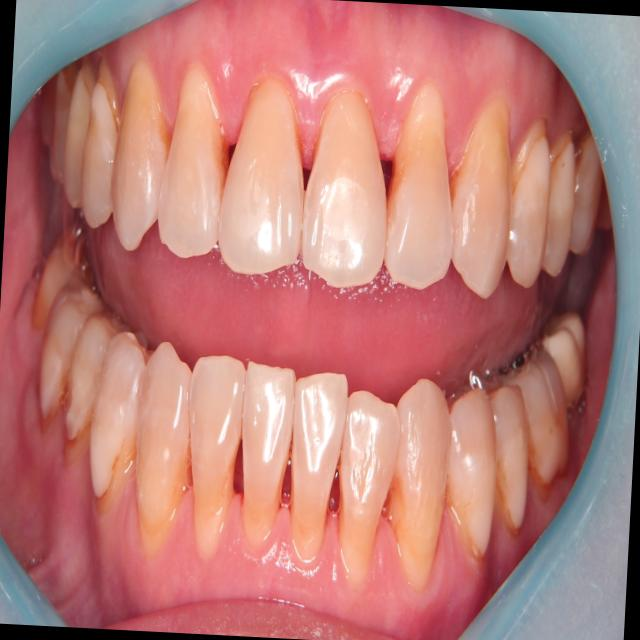tooth: (292, 61, 399, 308), (209, 53, 318, 288), (144, 48, 245, 282), (442, 55, 530, 311), (376, 56, 469, 295), (123, 328, 204, 577), (381, 361, 464, 602), (324, 369, 406, 605), (278, 353, 356, 590), (225, 346, 307, 560), (105, 42, 180, 269), (176, 344, 250, 571), (431, 376, 507, 568), (82, 314, 148, 533), (494, 338, 580, 495), (497, 90, 558, 299), (473, 372, 542, 545), (72, 45, 130, 247), (55, 296, 118, 472), (533, 110, 583, 292), (31, 269, 82, 434), (56, 53, 101, 225), (531, 303, 599, 416), (563, 113, 607, 272), (42, 59, 77, 194), (29, 221, 68, 336), (36, 84, 58, 150), (596, 171, 614, 236)
